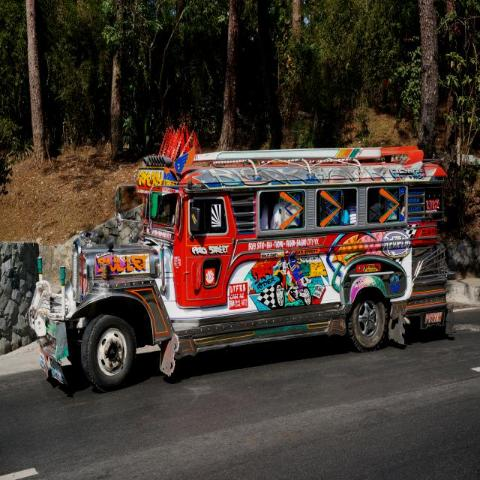jeepney: (30, 123, 466, 416)
